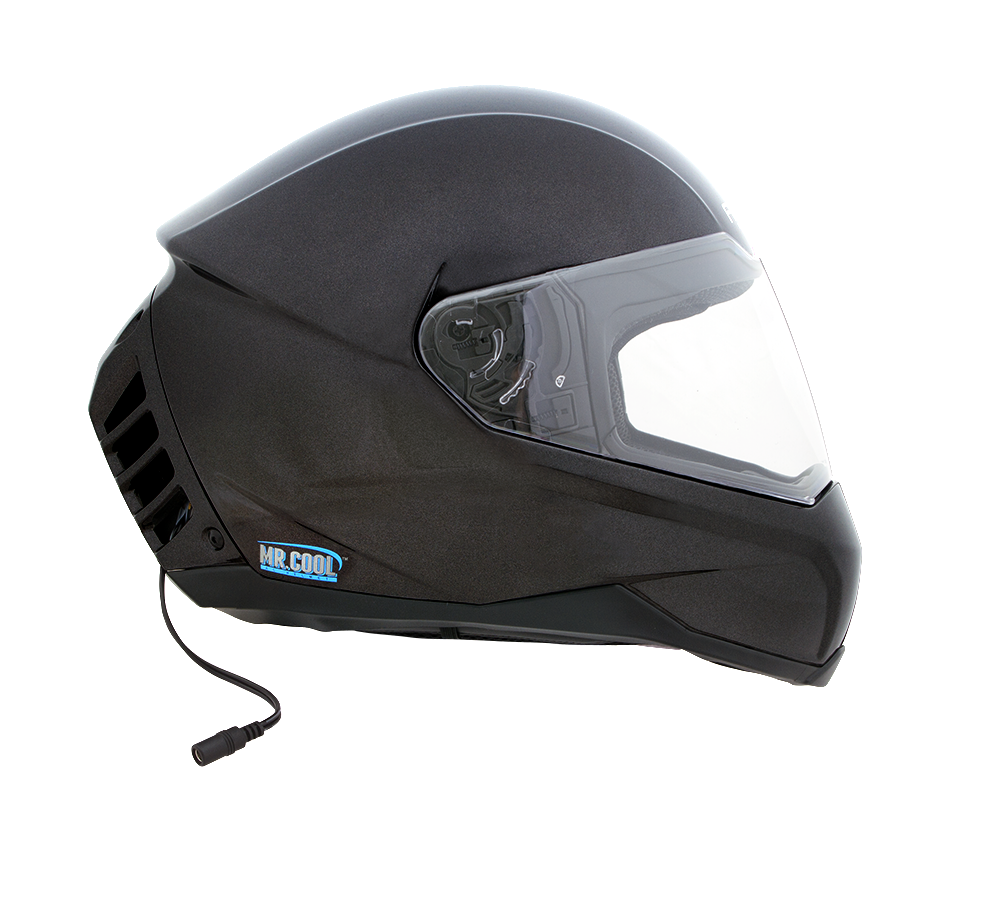with_helmet: (85, 82, 866, 697)
